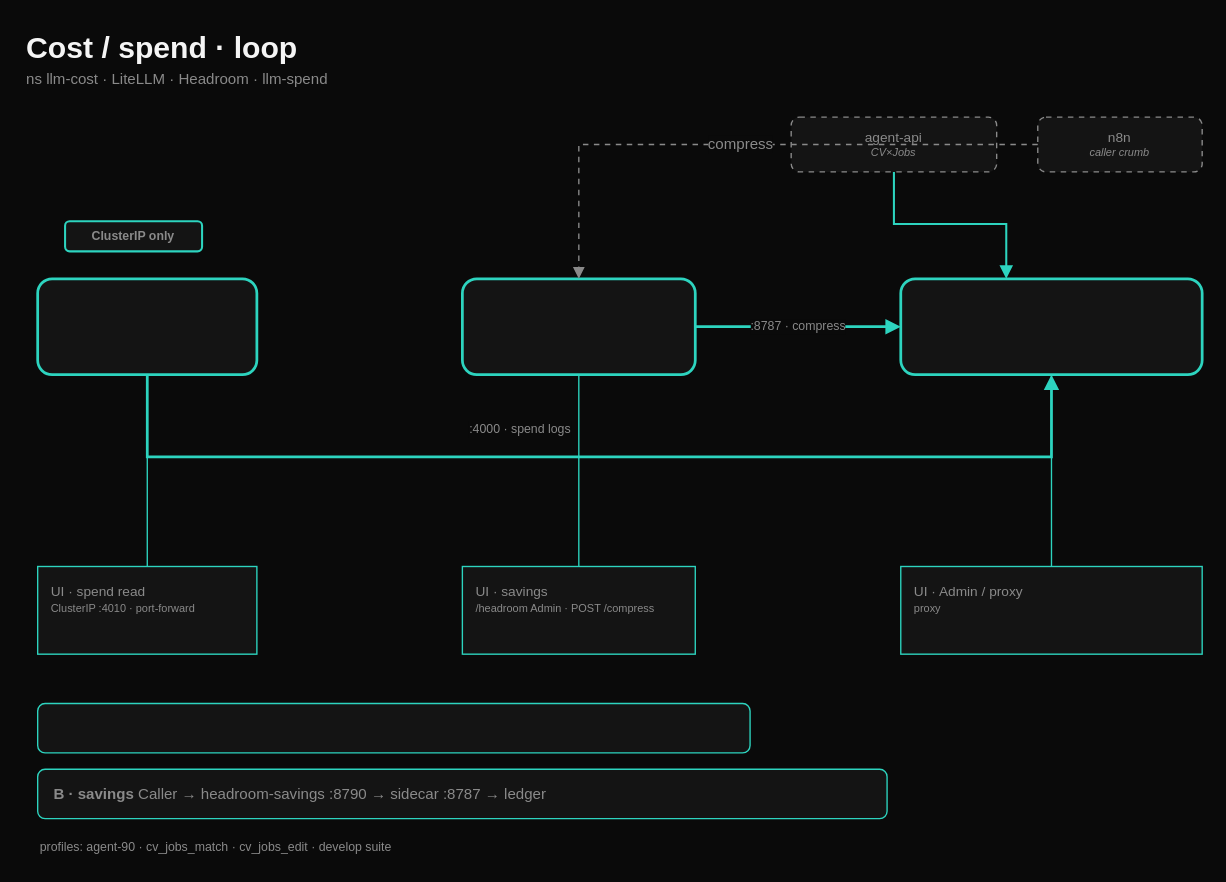
The diagram is 1226 pixels wide and 882 high, and some of its shapes have lost their labels. The box of each missing label's shape, as (x1, y1, x2, y2) in pixels:
A · spend Caller → LiteLLM :4000 · llm-spend reads spend logs: (36, 702, 750, 753)
Headroom savings · :8790: (460, 277, 696, 375)
LiteLLM :4000 · + Headroom sidecar: (899, 277, 1203, 375)
llm-spend :4010: (36, 277, 258, 375)
